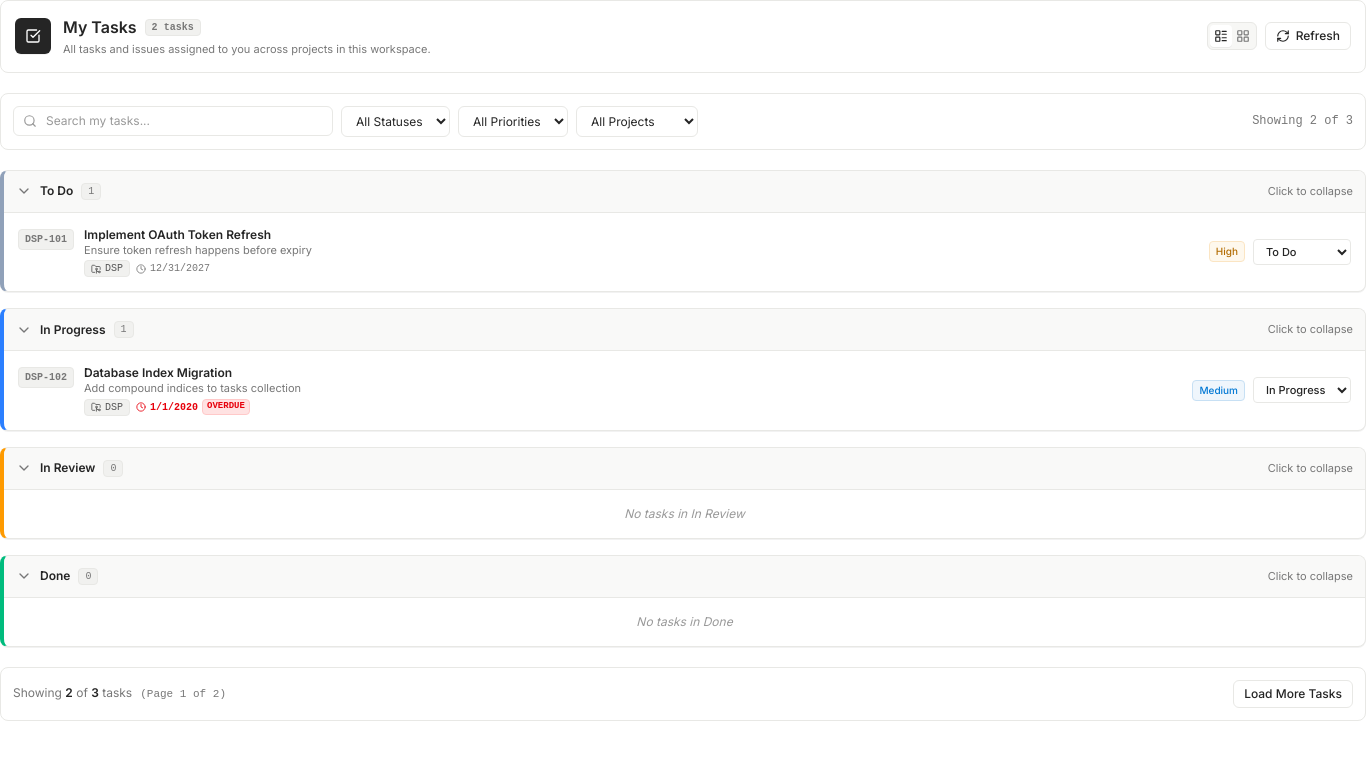
Test: Workspace My Tasks Feature › WorkspaceTasksPage Component › renders Load More Tasks button when hasNextPage is true and loads page 2 without duplicating existing tasks
Expected: the heading "Implement OAuth Token Refresh" is shown, [84,226,271,242]
Expected: the heading "Database Index Migration" is shown, [84,365,232,380]
Step 1. Click the button "Load More Tasks" → [1293, 694], box [1233,680,1353,708]
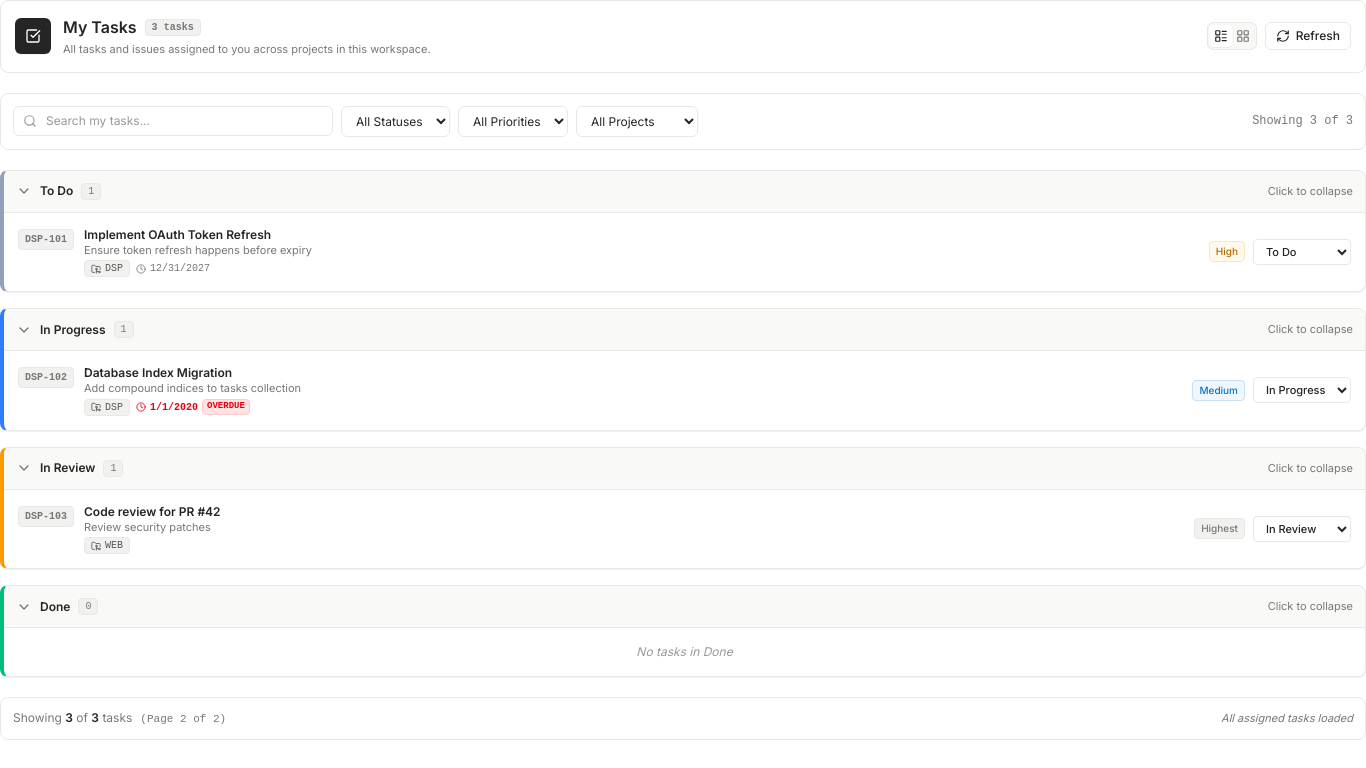
Result: the heading "Code review for PR #42" is shown at [84,504,221,518]
Result: the button "Load More Tasks" is gone
Result: the text "All assigned tasks loaded" is shown at [1221,711,1353,726]
